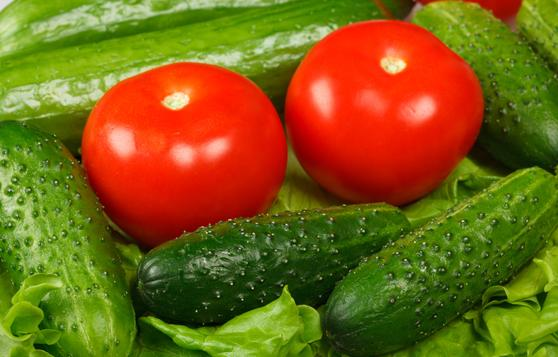cucumber: (132, 187, 403, 316), (2, 120, 138, 356)
tomato: (284, 20, 486, 202), (80, 62, 286, 223)
